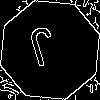J: (25, 25, 63, 77)
